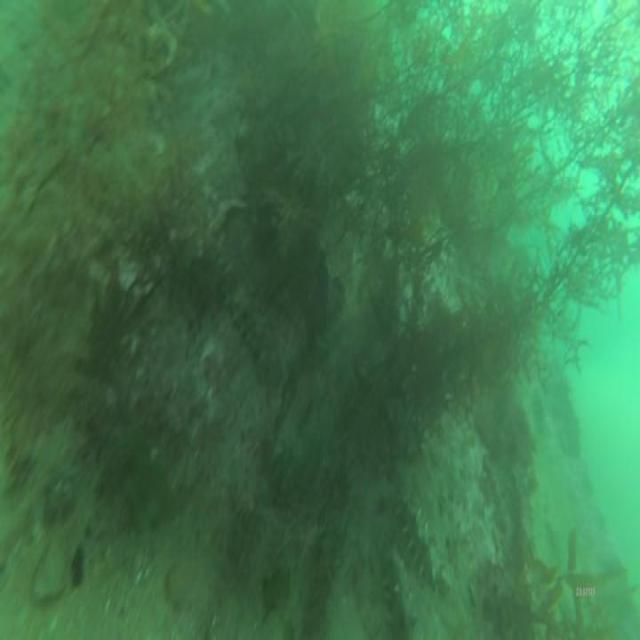holothurian: (223, 264, 284, 371), (401, 492, 457, 600), (381, 539, 419, 640)
waterweeds: (265, 2, 640, 446)
